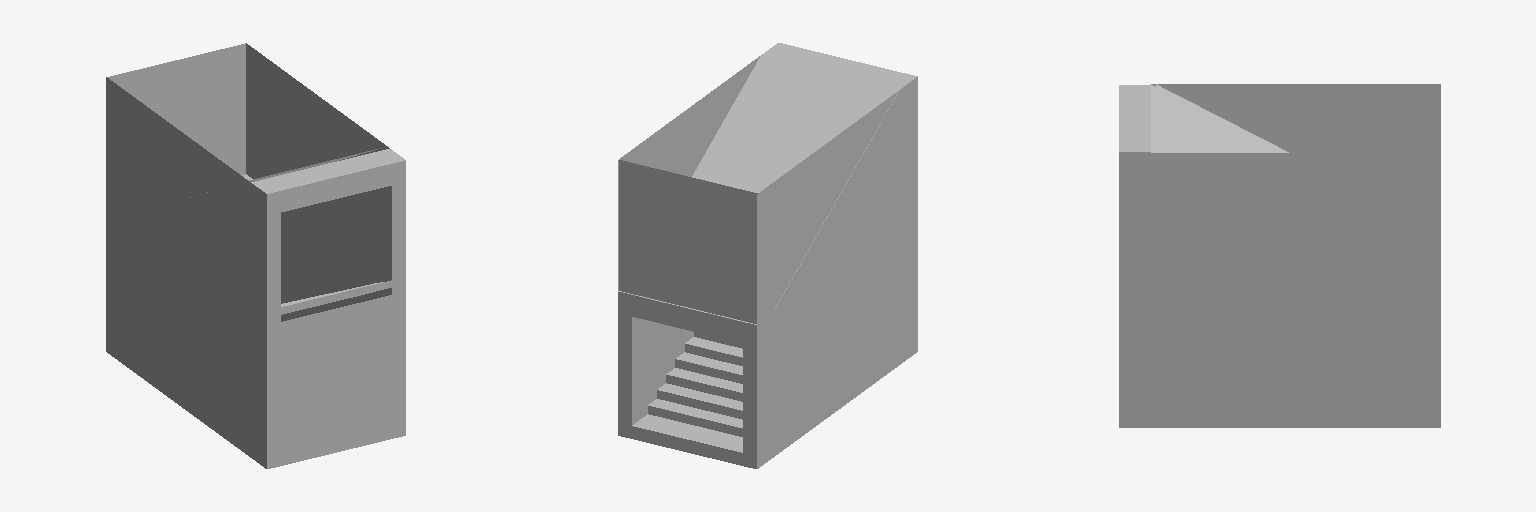
3 views of the same model, side by side, from view 1: azimuth 30°, elevation 25°; view 2: azimuth 150°, elevation 25°; view 3: azimuth 270°, elevation 25° (orthographic).
Visible parts, largest first — view 1: objobjRegroup03; view 2: objobjRegroup03; view 3: objobjRegroup03.
Boxes of the visible parts, <box> form: objobjRegroup03: <box>106,43,405,468</box>; objobjRegroup03: <box>618,43,917,468</box>; objobjRegroup03: <box>1119,84,1440,427</box>.
Size of the model in its own units: 10.05 by 18.91 by 20.